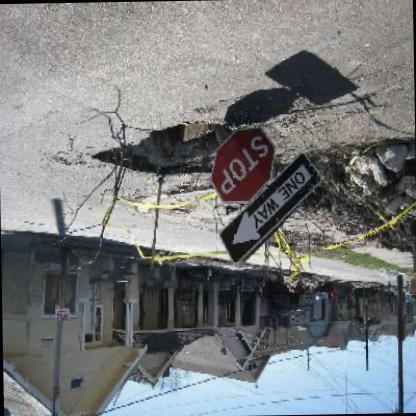pothole: (87, 120, 240, 177)
